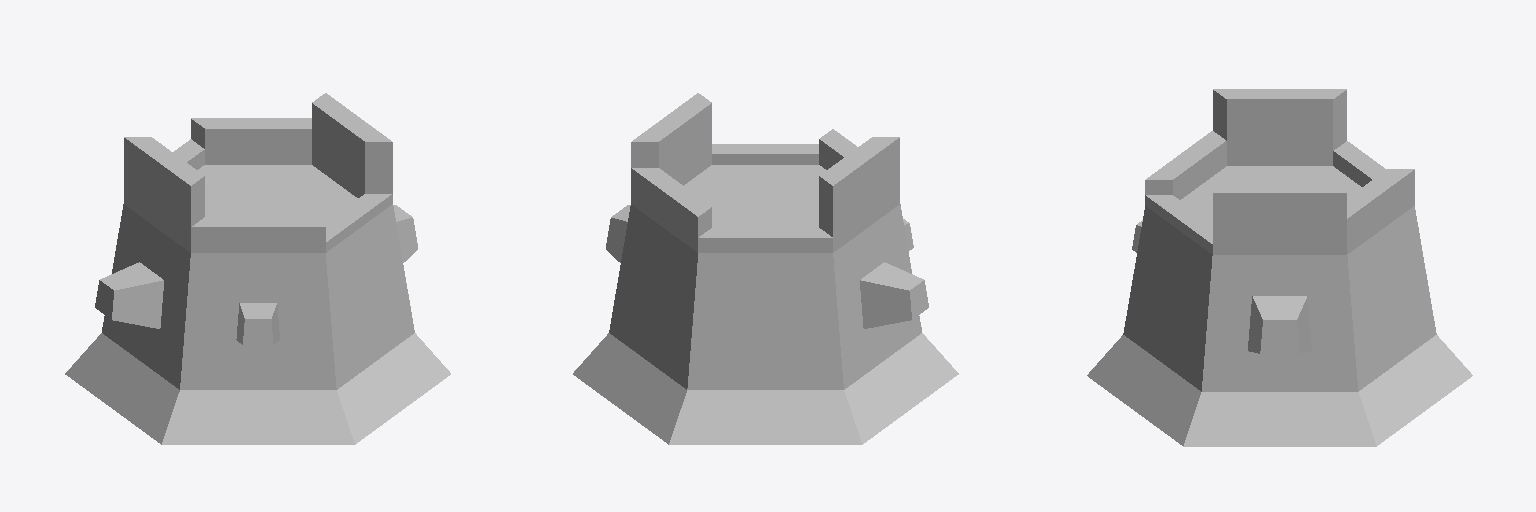
The model's file is trunk.obj.
3 renders of one model, left to right at view 1: azimuth 30°, elevation 25°; view 2: azimuth 150°, elevation 25°; view 3: azimuth 270°, elevation 25°, orthographic.
Parts seen in each view (by area): view 1: trunk; view 2: trunk; view 3: trunk.
Boxes of the visible parts, <box> form: trunk: <box>65,93,450,444</box>; trunk: <box>573,93,958,444</box>; trunk: <box>1087,89,1472,446</box>.
Bounding box in the file's own units: 0.5021 × 0.3726 × 0.5508.